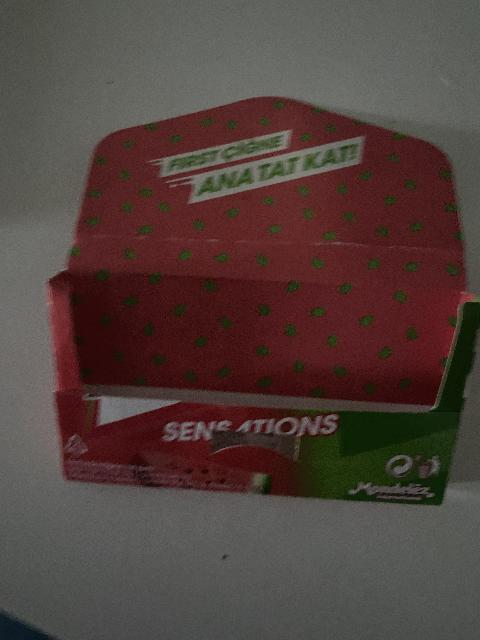Kagit: (35, 102, 473, 508)
